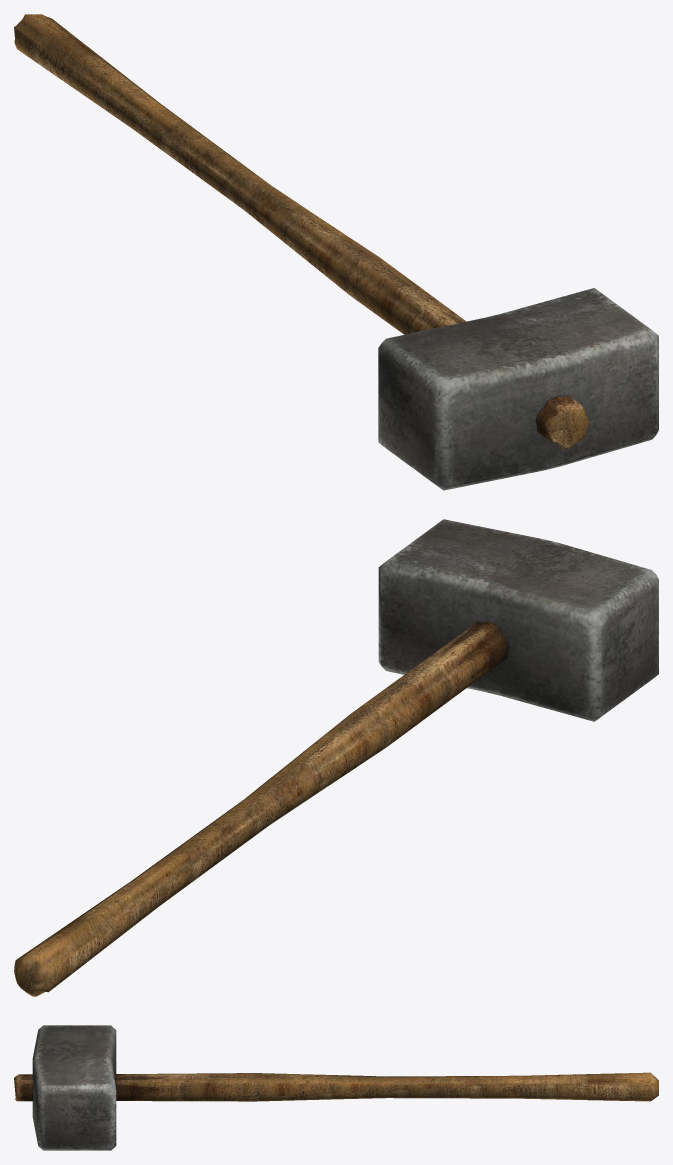
Rendered from sledgehammer.glb.
3 renders of one model, top to bottom at view 1: azimuth 30°, elevation 25°; view 2: azimuth 150°, elevation 25°; view 3: azimuth 270°, elevation 25°, orthographic. The views are drawn at different scales.
Parts seen in each view (by area): view 1: Mace01__0; view 2: Mace01__0; view 3: Mace01__0.
Boxes of the visible parts, box(x1,y1,x2,y2) form: Mace01__0: box(14, 14, 658, 490); Mace01__0: box(14, 519, 658, 996); Mace01__0: box(14, 1025, 658, 1150).
Size of the model in its own units: 19.66 by 9.24 by 83.29.
1 material, 1 textured.
